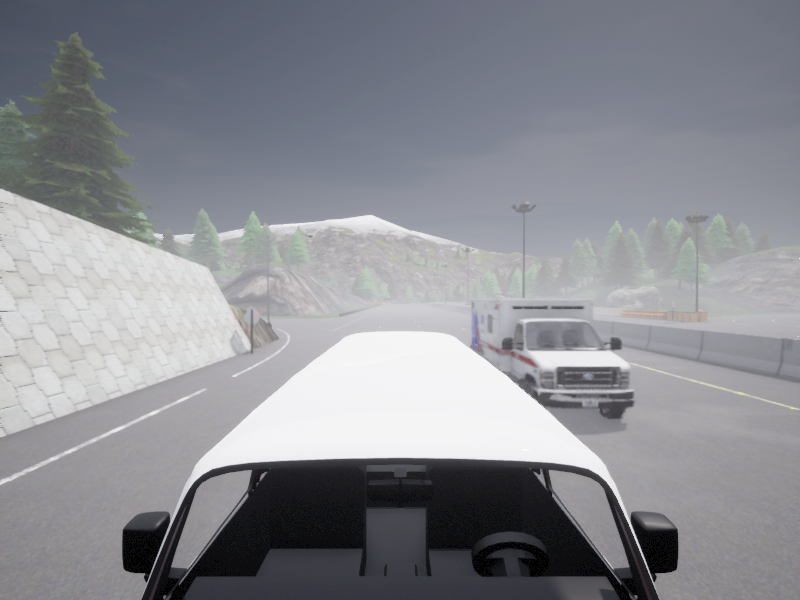vehicle: (122, 331, 678, 599), (471, 299, 634, 418)
